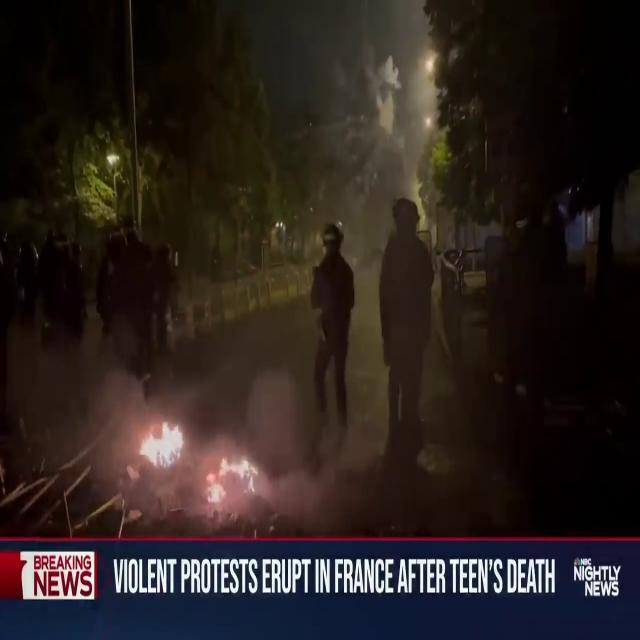Fire: (202, 446, 260, 507), (134, 413, 188, 473)
Smoke: (3, 302, 151, 468)
